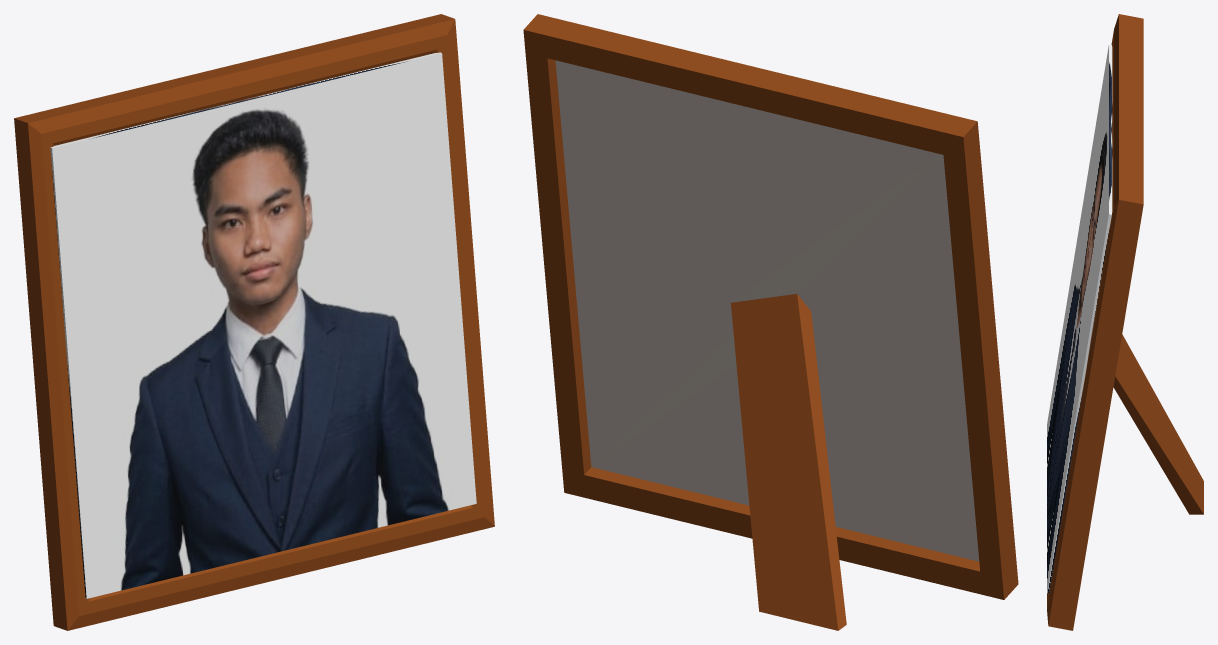
Rendered from ryan.gltf.
3 renders of one model, left to right at view 1: azimuth 30°, elevation 25°; view 2: azimuth 150°, elevation 25°; view 3: azimuth 270°, elevation 25°, orthographic. The views are drawn at different scales.
Visible parts, largest first — view 1: Cube, Model; view 2: Model; view 3: Model, Cube.
Part boxes in pixels (x1,y1,x2,y2): Cube: (50,52,476,598); Model: (14,14,494,630); Model: (523,14,1018,630); Model: (1047,14,1203,630); Cube: (1047,44,1112,593).
Size of the model in its own units: 1.75 by 1.89 by 0.6242.
3 materials, 1 textured.
